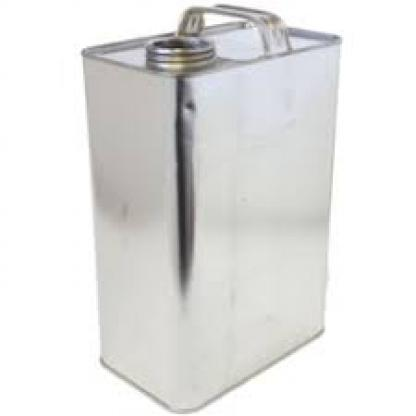Compsot: (78, 4, 340, 408)
